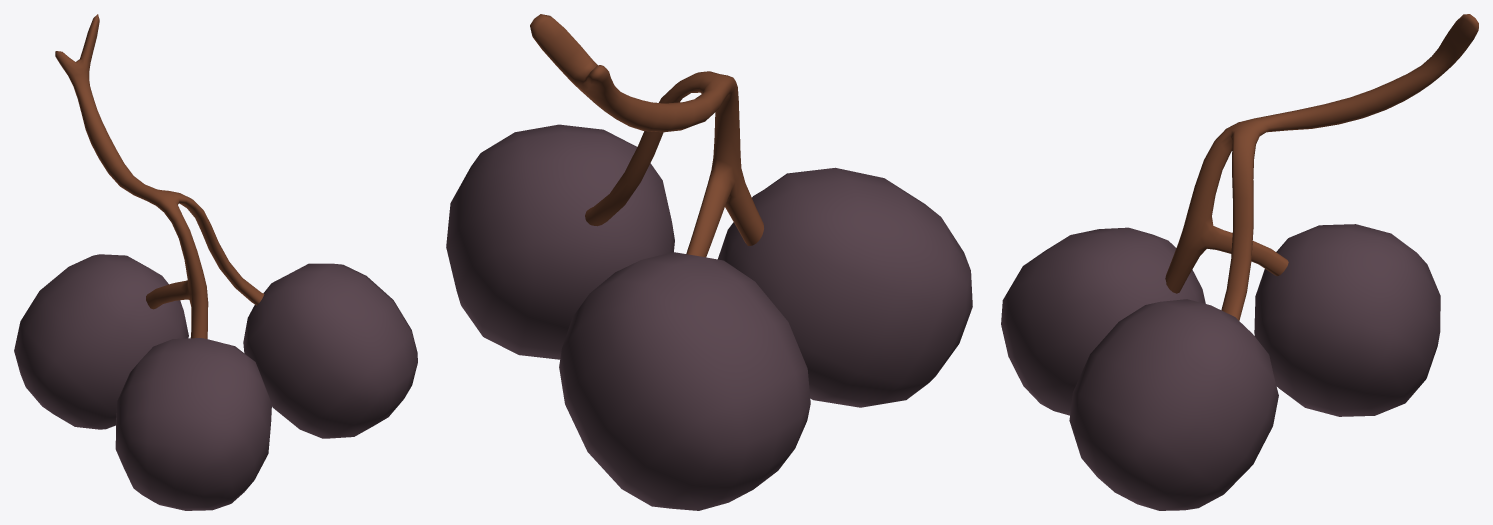
Rendered from Grape_02.dae.
3 views of the same model, side by side, from view 1: azimuth 30°, elevation 25°; view 2: azimuth 150°, elevation 25°; view 3: azimuth 270°, elevation 25° (orthographic). The views are drawn at different scales.
Parts seen in each view (by area): view 1: Grape_02_LOD0; view 2: Grape_02_LOD0; view 3: Grape_02_LOD0.
Boxes of the visible parts, left/top/right/bottom form: Grape_02_LOD0: left=14, top=14, right=417, bottom=510; Grape_02_LOD0: left=446, top=14, right=972, bottom=510; Grape_02_LOD0: left=1001, top=14, right=1478, bottom=510.
Size of what is drawn, in the model's own units: 3.37 by 3.72 by 3.71.
